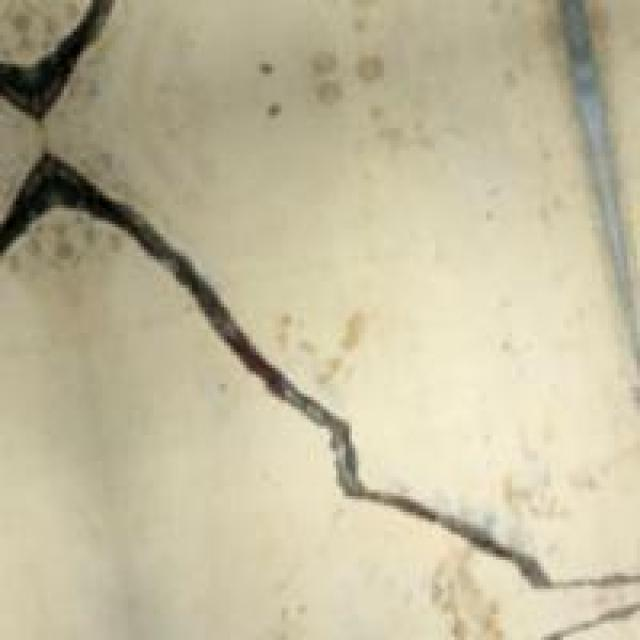crack: (0, 154, 624, 622), (0, 0, 118, 142)
